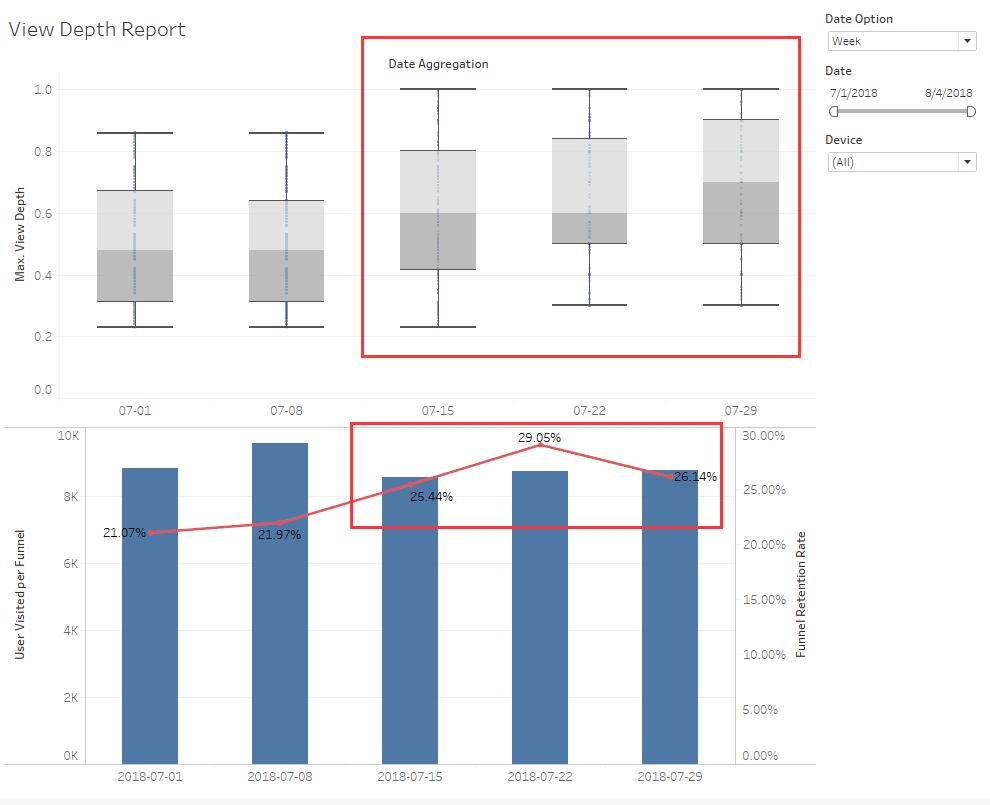

The dashboard page shown, as its layout file describes it:
{"tool":"tableau","page":{"name":"Event Summary Performance Report","canvas":[1000,800],"ordinal":0},"visuals":[{"type":"worksheet","title":"View Depth Report","mark":"Circle","rows":["View Depth"],"cols":["Calculation_1519190848521822218"],"box":[8,8,821,499]},{"type":"parameter","param":"[Parameters].[Date Parameter]","box":[829,8,163,52]},{"type":"filter","title":"View Depth Report","param":"[federated.104fmxz02z8ek91d0op1l1si5i98].[none:Date:qk]","box":[829,60,163,69]},{"type":"filter","title":"View Depth Report","param":"[federated.16dubos0t2afk017okdfl0l1g14e].[none:Device:nk]","box":[829,129,163,52]},{"type":"worksheet","title":"Event Summary Conversion Rate","mark":"Automatic","rows":["Funnel","User Visited","Calculation3"],"cols":["Calculation_1519190848479875079"],"box":[8,507,821,285]}]}

Visuals, with their boxes in screenshot pixels (x1, y1, x2, y2), scaled from the page's 1000x800 canvas onto the 990x805 screenshot:
"View Depth Report" worksheet (Circle marks): x1=8 y1=8 x2=821 y2=510
parameter: x1=821 y1=8 x2=982 y2=60
"View Depth Report" filter: x1=821 y1=60 x2=982 y2=130
"View Depth Report" filter: x1=821 y1=130 x2=982 y2=182
"Event Summary Conversion Rate" worksheet: x1=8 y1=510 x2=821 y2=797
